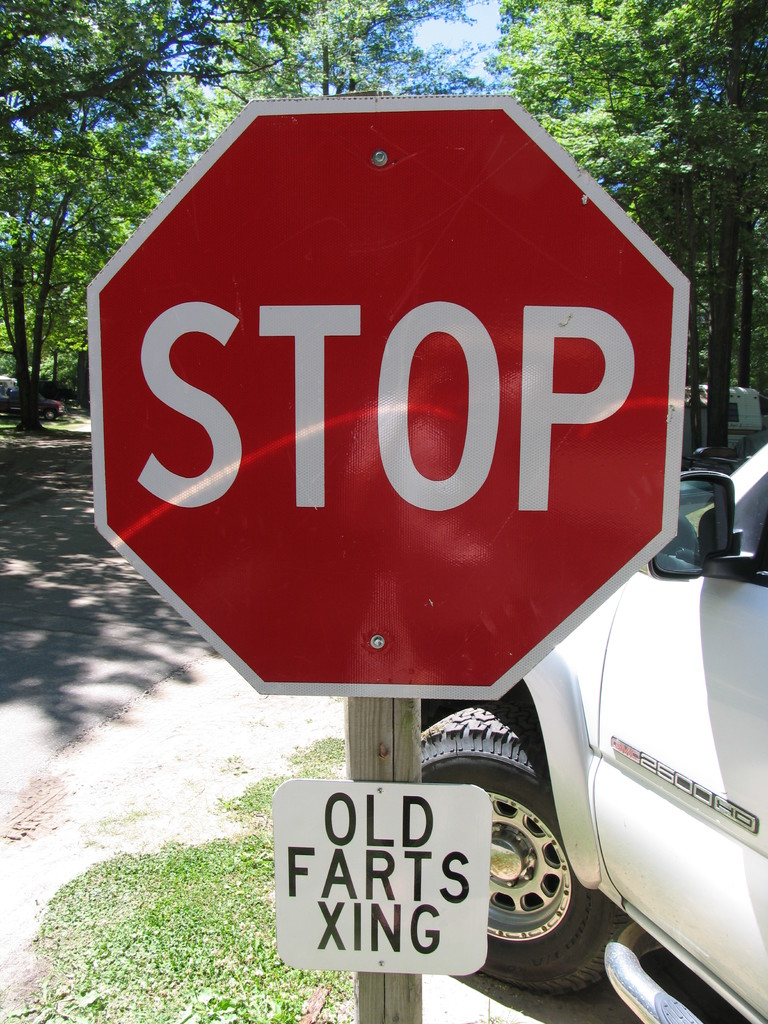stop_sign: (89, 97, 680, 695)
